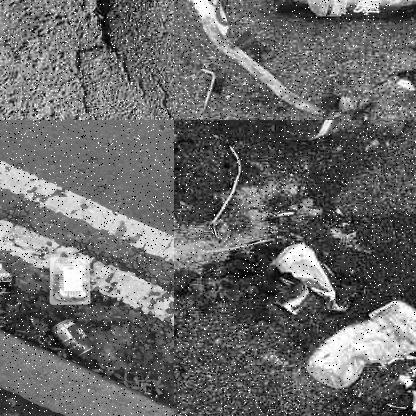glass: (275, 0, 415, 24)
metal: (52, 315, 95, 359), (0, 255, 15, 302)
plastic: (311, 304, 415, 385), (275, 241, 343, 312), (47, 255, 93, 306)
